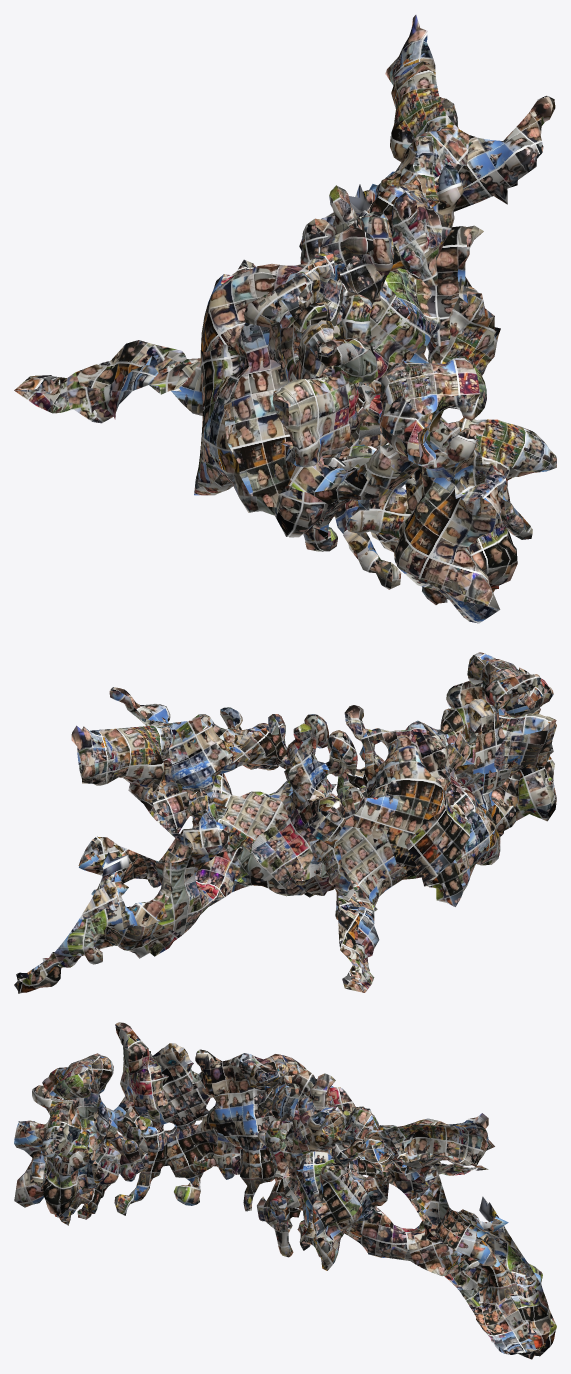
File: Lisa_digitalesSelbst.glb
3 renders of one model, top to bottom at view 1: azimuth 30°, elevation 25°; view 2: azimuth 150°, elevation 25°; view 3: azimuth 270°, elevation 25°, orthographic. The views are drawn at different scales.
Parts seen in each view (by area): view 1: Mesh_0.001; view 2: Mesh_0.001; view 3: Mesh_0.001.
Boxes of the visible parts, left/top/right/bottom form: Mesh_0.001: left=14, top=15, right=556, bottom=623; Mesh_0.001: left=14, top=652, right=556, bottom=993; Mesh_0.001: left=14, top=1022, right=556, bottom=1359.
Size of what is drawn, in the model's own units: 1.92 by 1.42 by 3.
1 material, 1 textured.
